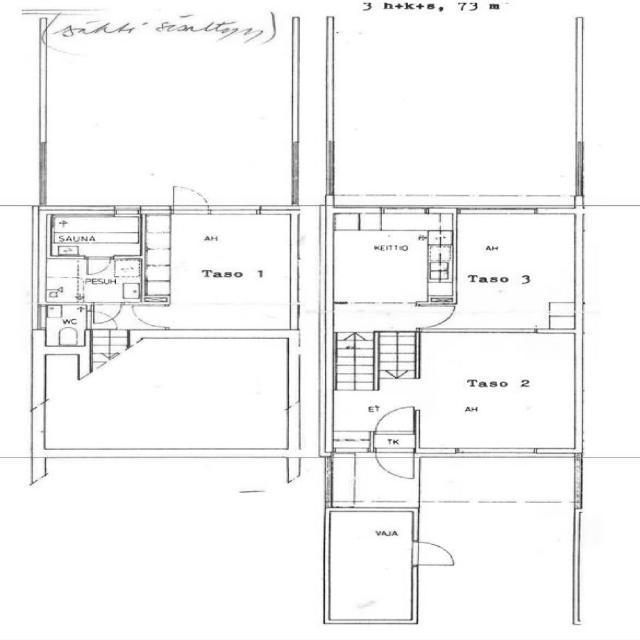door: (409, 537, 464, 569), (371, 404, 420, 436), (166, 183, 213, 216), (374, 449, 418, 482), (414, 302, 459, 331), (130, 302, 172, 330), (88, 303, 123, 328), (83, 255, 115, 277)
window: (455, 205, 551, 218), (206, 204, 272, 218)
zone: (36, 348, 306, 457), (417, 501, 578, 635), (411, 331, 577, 455), (145, 211, 294, 331), (452, 210, 578, 329), (329, 455, 580, 514), (329, 209, 454, 307), (325, 509, 417, 622), (41, 258, 142, 304), (48, 212, 142, 258), (39, 303, 90, 349)
